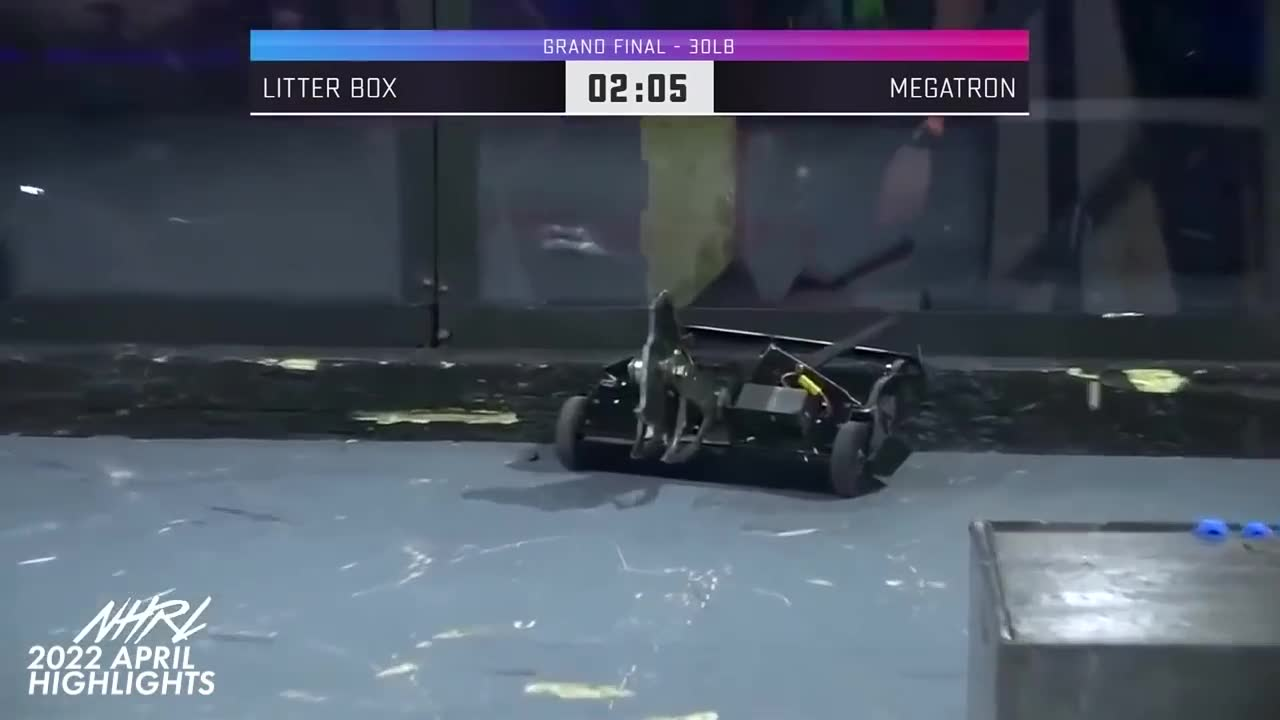combatbot: (556, 326, 915, 494)
housebot: (965, 514, 1280, 720)
